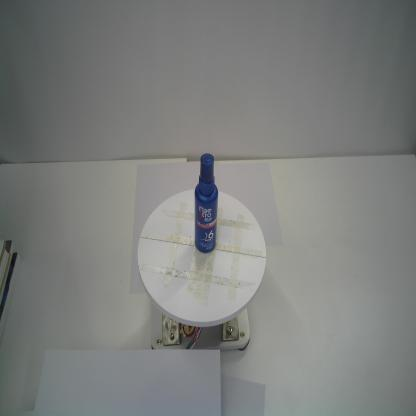Personal Hygiene: (192, 151, 220, 254)
